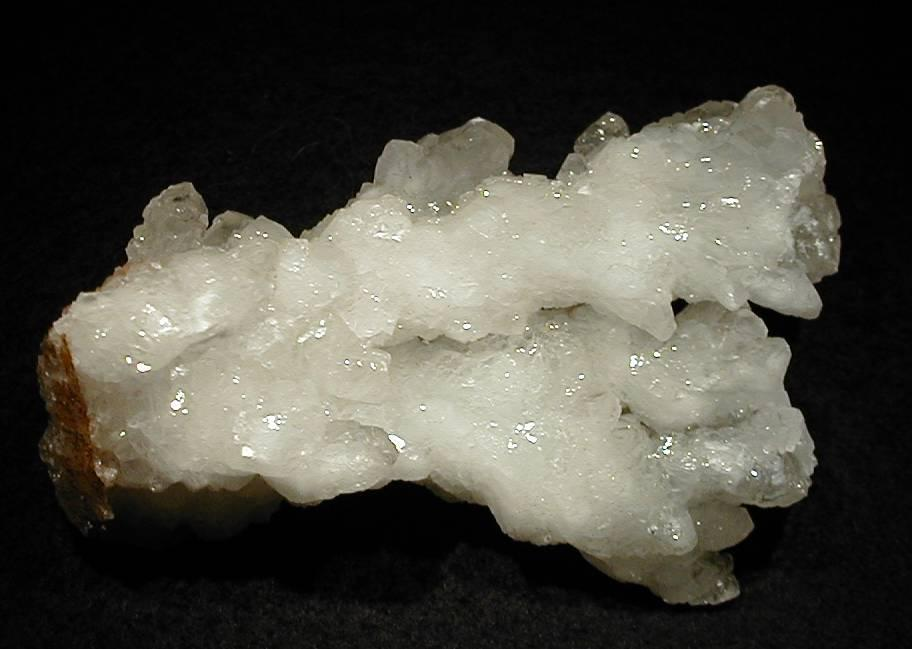calcite: (53, 88, 841, 588)
